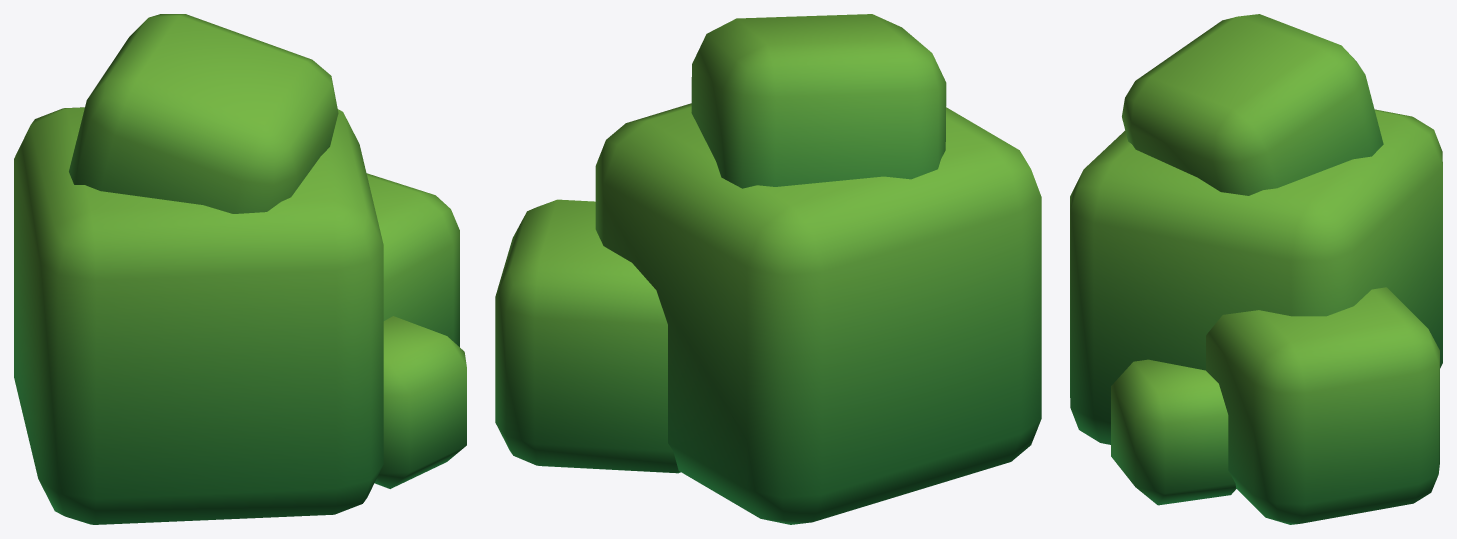
Rendered from Bush2F.glb.
3 renders of one model, left to right at view 1: azimuth 30°, elevation 25°; view 2: azimuth 150°, elevation 25°; view 3: azimuth 270°, elevation 25°, orthographic. The views are drawn at different scales.
Visible parts, largest first — view 1: Bush_2_F_Color1; view 2: Bush_2_F_Color1; view 3: Bush_2_F_Color1.
Part boxes in pixels (left/top/right/bottom): Bush_2_F_Color1: left=14, top=14, right=466, bottom=524; Bush_2_F_Color1: left=495, top=14, right=1041, bottom=524; Bush_2_F_Color1: left=1070, top=14, right=1442, bottom=524.
Size of the model in its own units: 2.01 by 1.79 by 1.59.
1 material, 1 textured.
